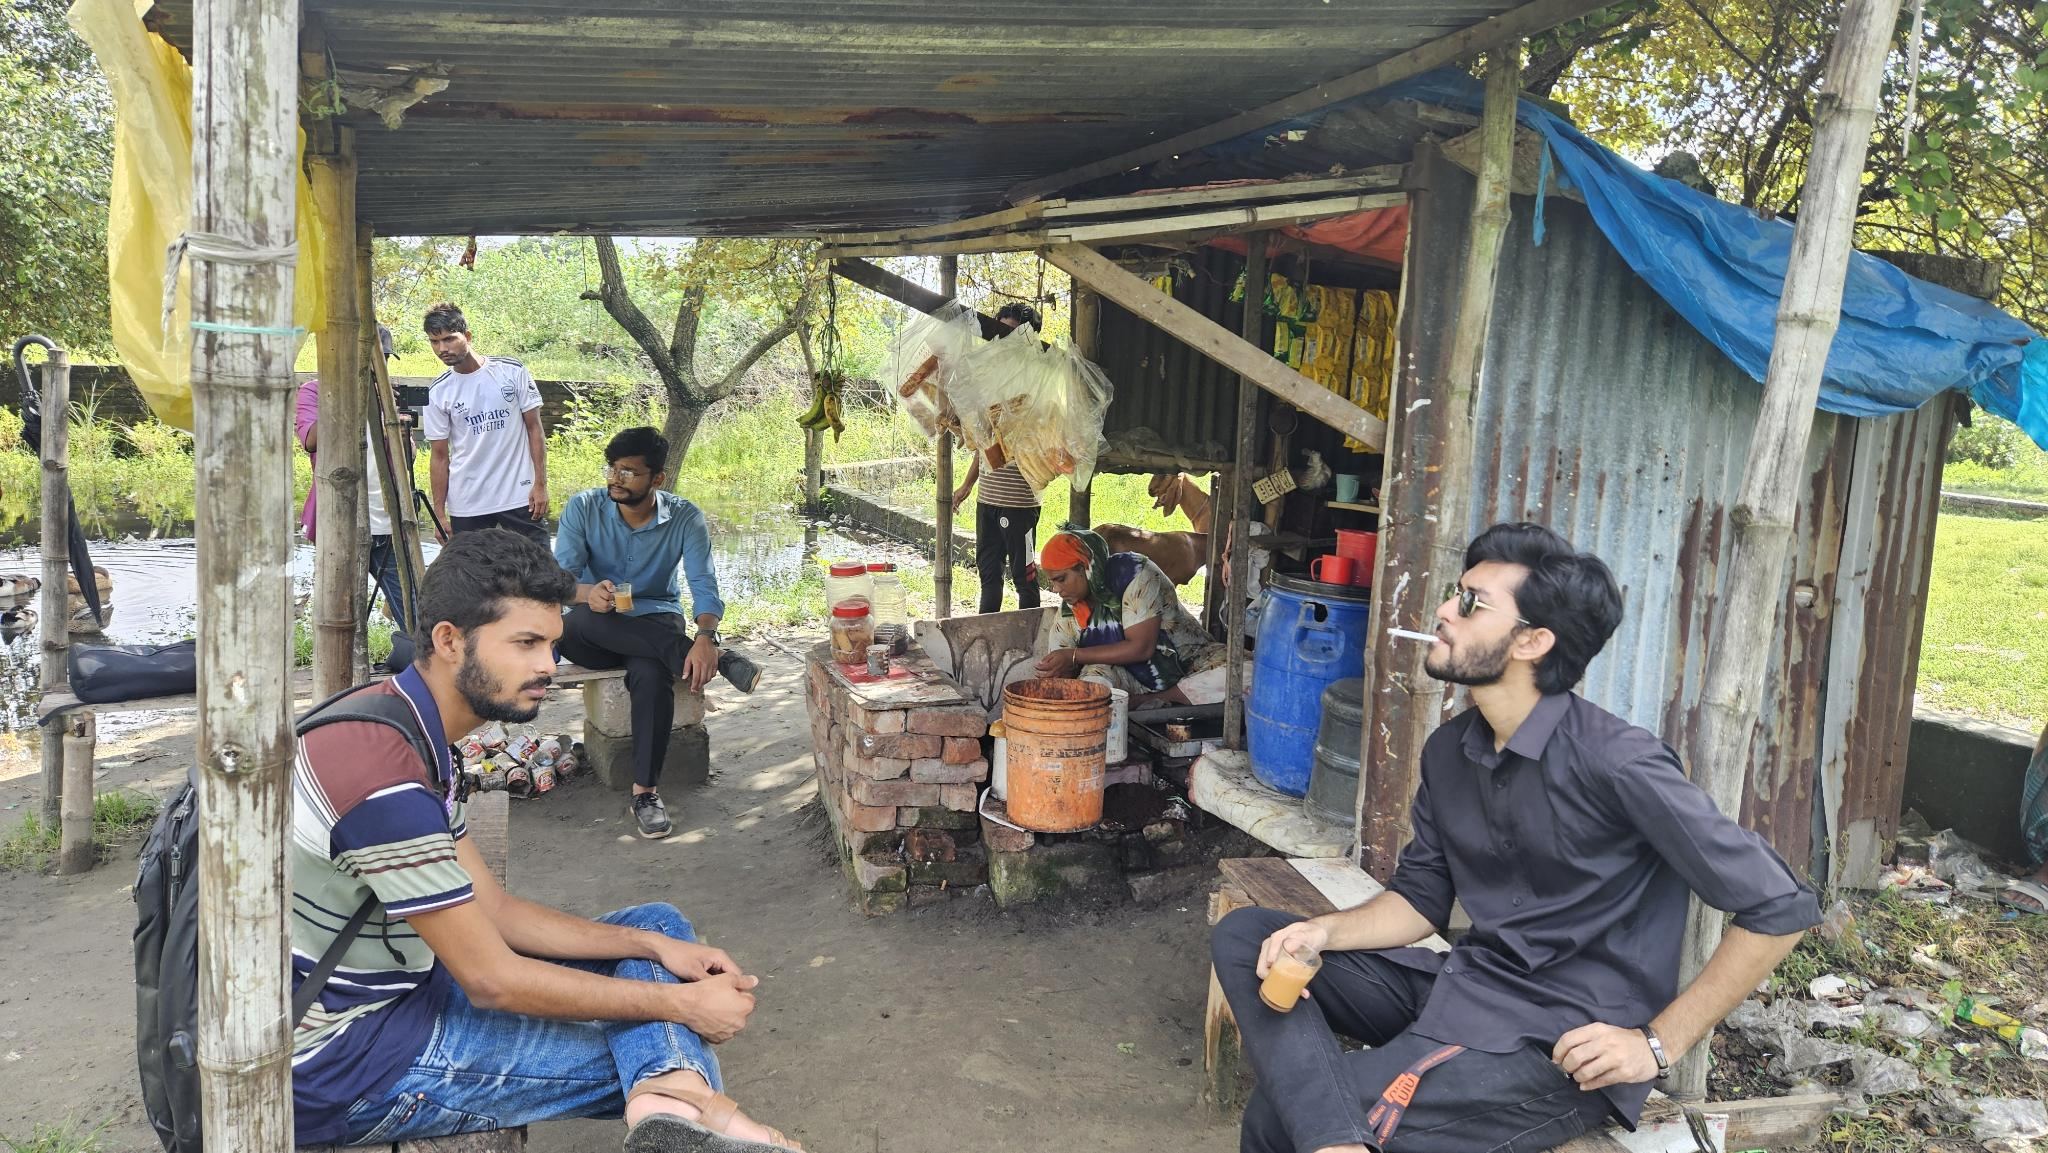cigarette: (1384, 626, 1442, 644)
nonSmoker: (280, 529, 807, 1153), (556, 426, 762, 839), (1034, 529, 1228, 702), (423, 302, 551, 553)
smoker: (1210, 522, 1824, 1153)
